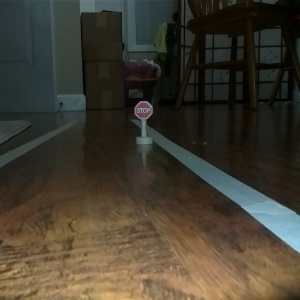stop sign: (132, 99, 154, 148)
